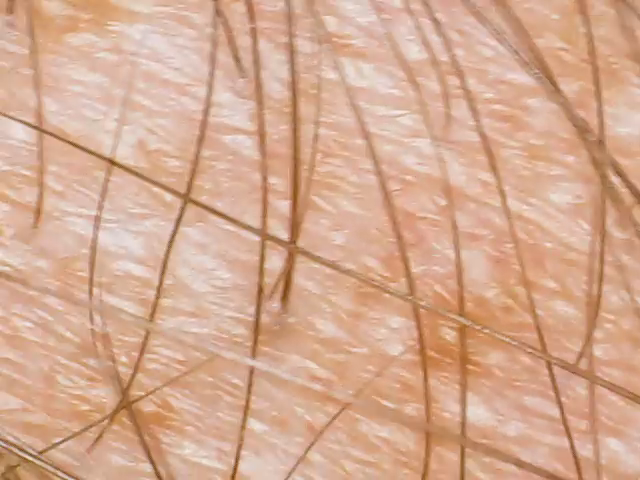folicle: (561, 355, 587, 383), (23, 212, 50, 236), (438, 111, 461, 136), (276, 292, 297, 315), (80, 440, 101, 462), (231, 67, 254, 85), (261, 288, 280, 309)
